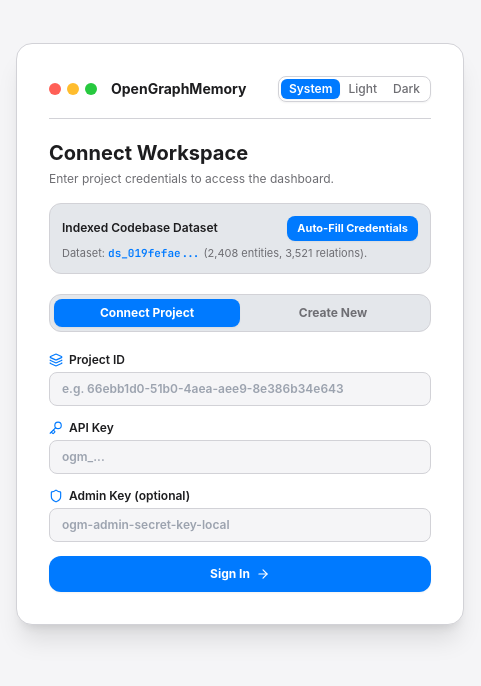
Scenario: LoginPage › shows error when fields empty on connect
The image size is (481, 686).
Expected: the element named "Theme" is shown, left=278, top=76, right=431, bottom=102
Click the button "Sign In": (240, 574) left=49, top=556, right=431, bottom=592
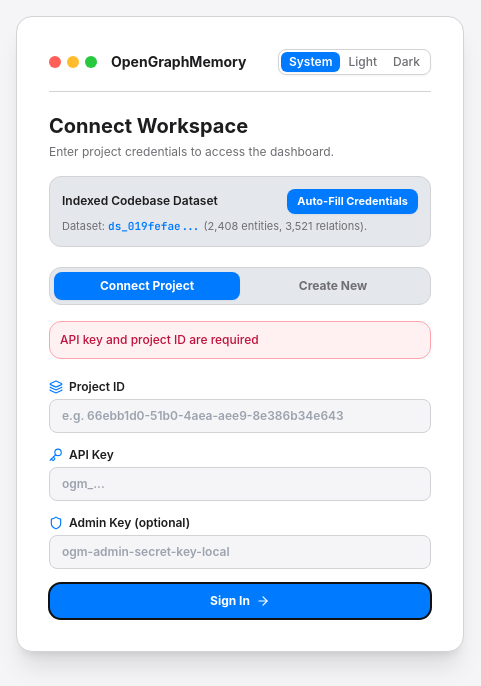
Expected: the text "API key and project ID are required" is shown, left=49, top=321, right=431, bottom=359
